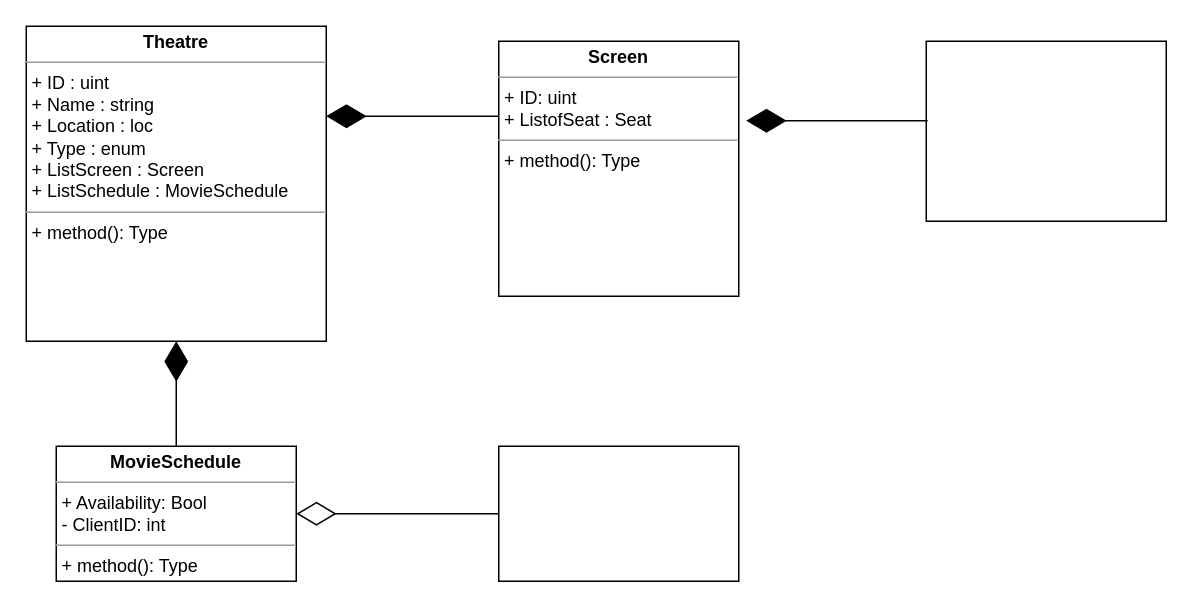
The diagram is 1193 pixels wide and 608 high, and some of its shapes have lost their labels. Each missing label, with the centre of its shape:
Movie + Availability: Bool - ClientID: int + method(): Type: pixel 618 513
Seat + ID: uint + Availability: Bool - ClientID: int + method(): Type: pixel 1045 130
